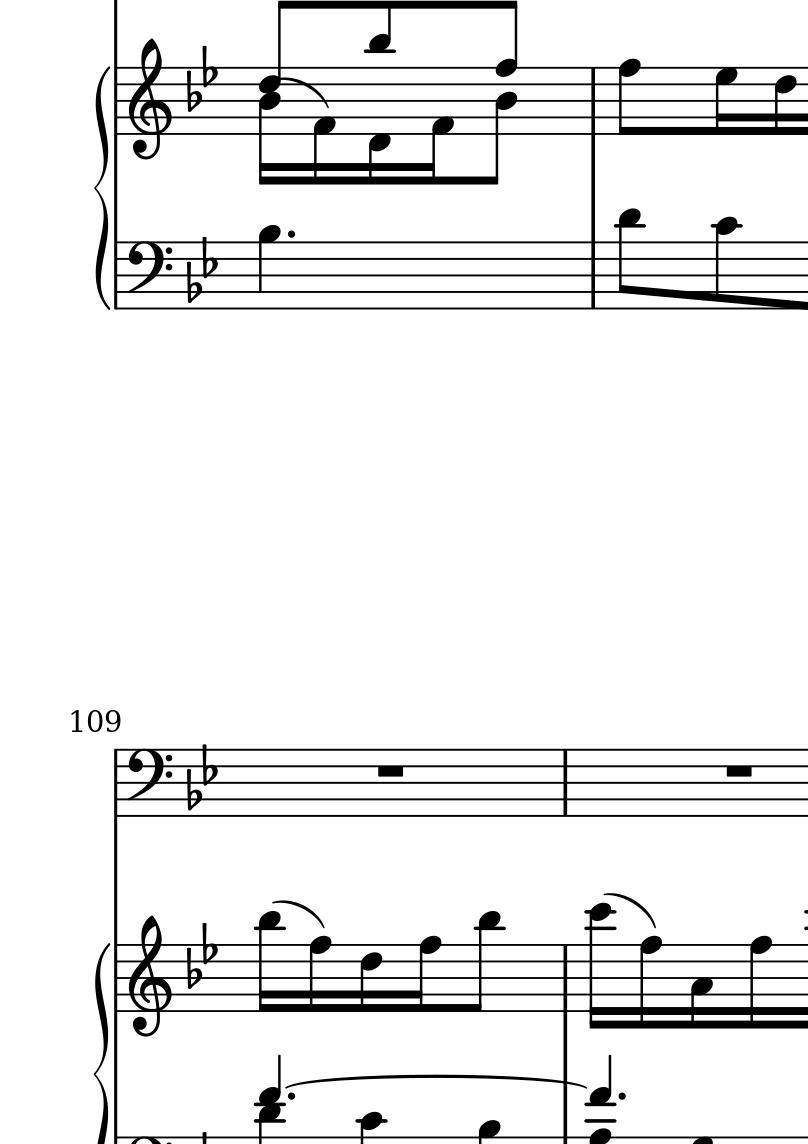0: (86, 706, 103, 735)
1: (70, 706, 85, 736)
16_-1: (368, 65, 394, 186)
16_1: (424, 64, 455, 183), (311, 65, 337, 186)
16_11: (257, 911, 284, 1015)
16_12: (587, 902, 617, 1031)
16_3: (688, 942, 714, 1031)
16_6: (358, 942, 384, 1015), (773, 65, 798, 137)
16_7: (713, 64, 740, 138)
16_8: (406, 935, 441, 1014), (638, 935, 664, 1032), (747, 935, 773, 1032), (308, 935, 333, 1015)
4_9: (257, 224, 282, 310)
8_10: (711, 215, 742, 312)
8_11: (463, 909, 501, 1015), (615, 207, 645, 313)
8_8: (617, 57, 643, 137)
9: (105, 707, 122, 735)
B_F: (186, 235, 220, 306), (185, 43, 219, 113), (186, 918, 218, 991), (186, 742, 218, 814)
Fclef: (123, 747, 173, 819), (125, 239, 173, 312)
Gclef: (127, 37, 172, 162), (127, 914, 172, 1038)
Rests1: (721, 761, 757, 781), (373, 761, 408, 781)
Single_barline: (584, 67, 605, 134), (556, 944, 576, 1012), (584, 241, 603, 309), (557, 751, 575, 816), (108, 750, 125, 818), (110, 944, 126, 1013), (110, 68, 126, 136), (111, 242, 125, 310)
Slur: (278, 1072, 586, 1088), (602, 889, 661, 930), (285, 71, 330, 108), (277, 900, 320, 929)
dot: (614, 1088, 629, 1105), (285, 228, 298, 241), (284, 1090, 297, 1103)
